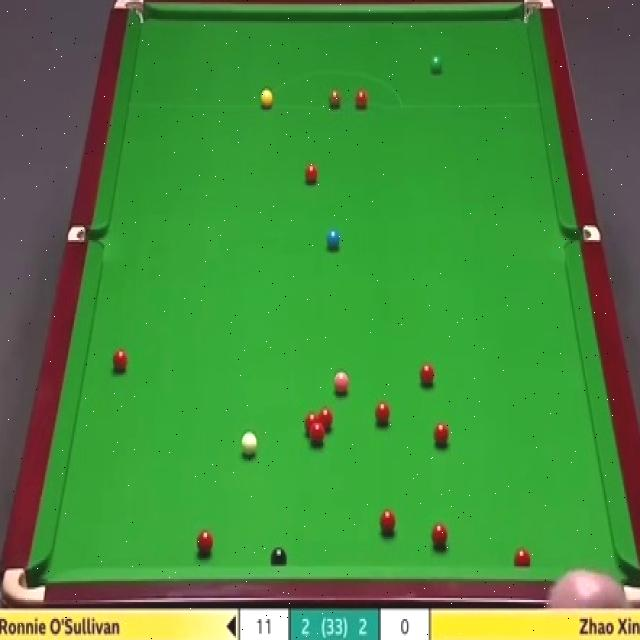black-ball: (270, 547, 289, 568)
blue-ball: (325, 229, 342, 251)
brown-ball: (328, 86, 341, 107)
green-ball: (427, 52, 443, 76)
pink-ball: (333, 372, 350, 398)
red-ball: (429, 522, 449, 550), (195, 530, 215, 556), (419, 361, 436, 389), (112, 349, 128, 378), (433, 422, 448, 451), (379, 506, 394, 535), (374, 400, 391, 425), (304, 412, 319, 438), (303, 162, 319, 186), (355, 87, 370, 112), (514, 546, 531, 567), (319, 408, 333, 433), (310, 426, 326, 447)
white-ball: (239, 430, 260, 456)
yellow-ball: (259, 89, 274, 109)
